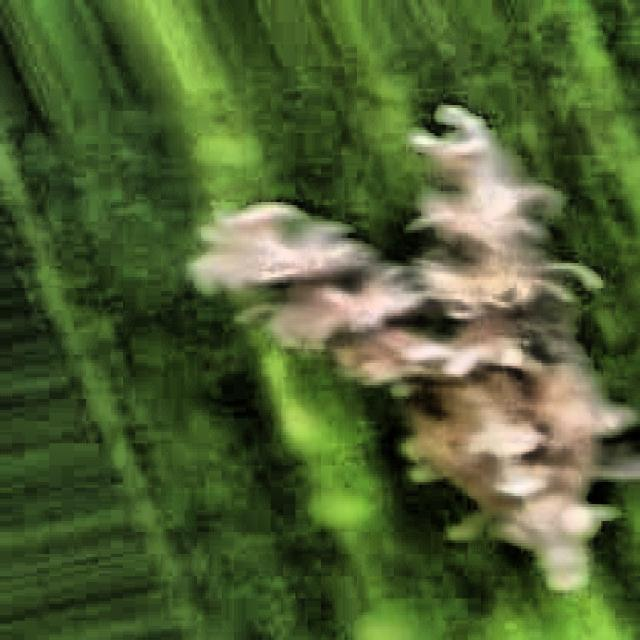Pyrilla-perpusilla: (144, 76, 637, 633)
